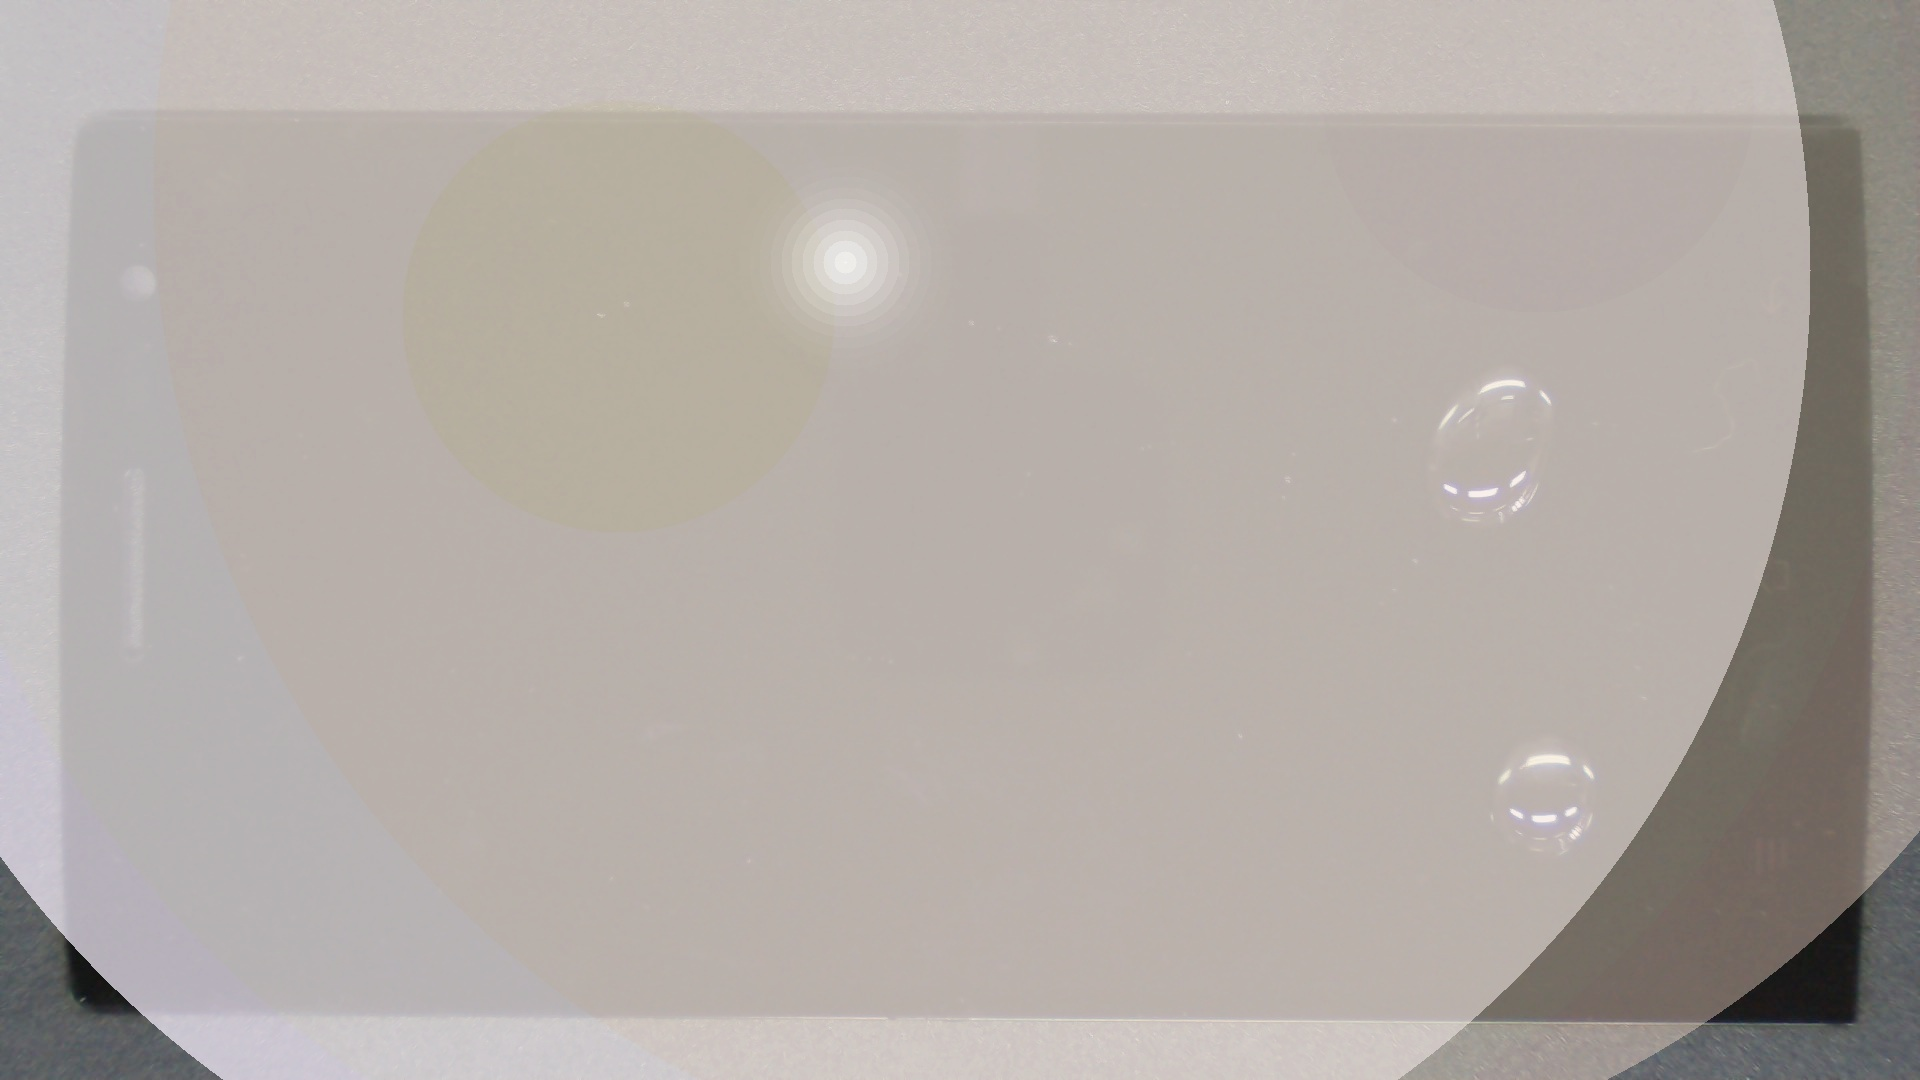oil: (771, 368, 1920, 1080), (752, 183, 1920, 551)
